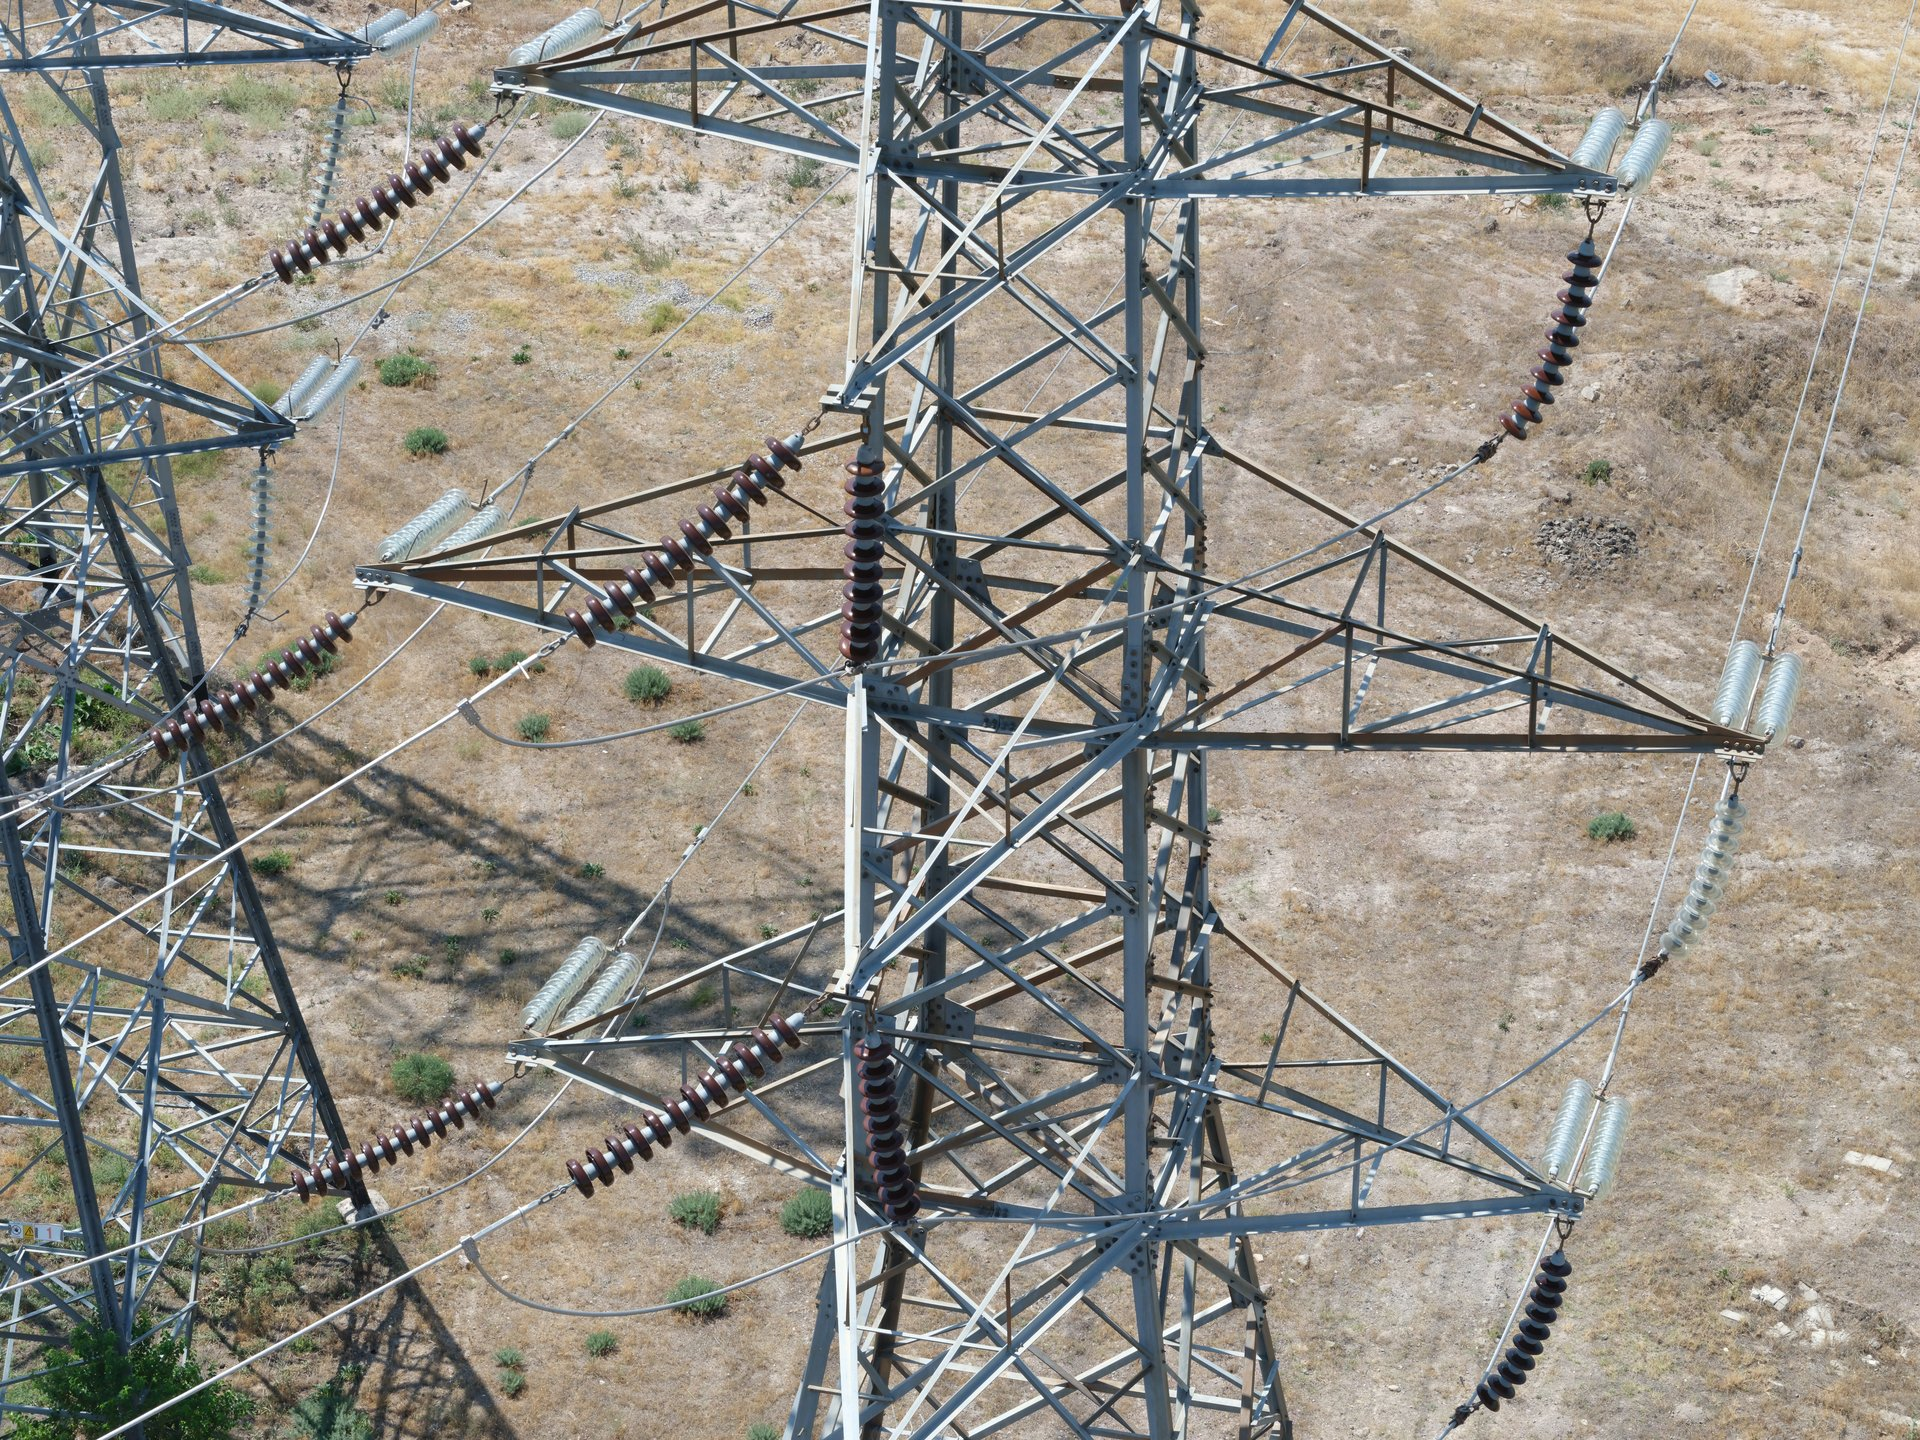voltage_line: (370, 5, 1677, 1440), (757, 0, 1661, 1438), (5, 0, 629, 1429), (6, 0, 398, 1392)
